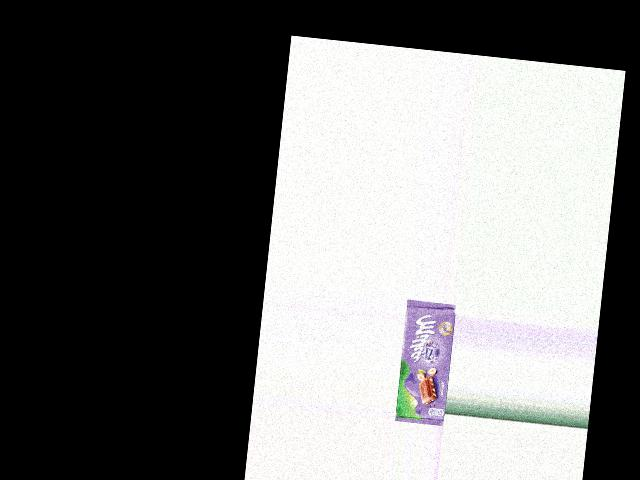chocolate: (394, 299, 457, 426)
